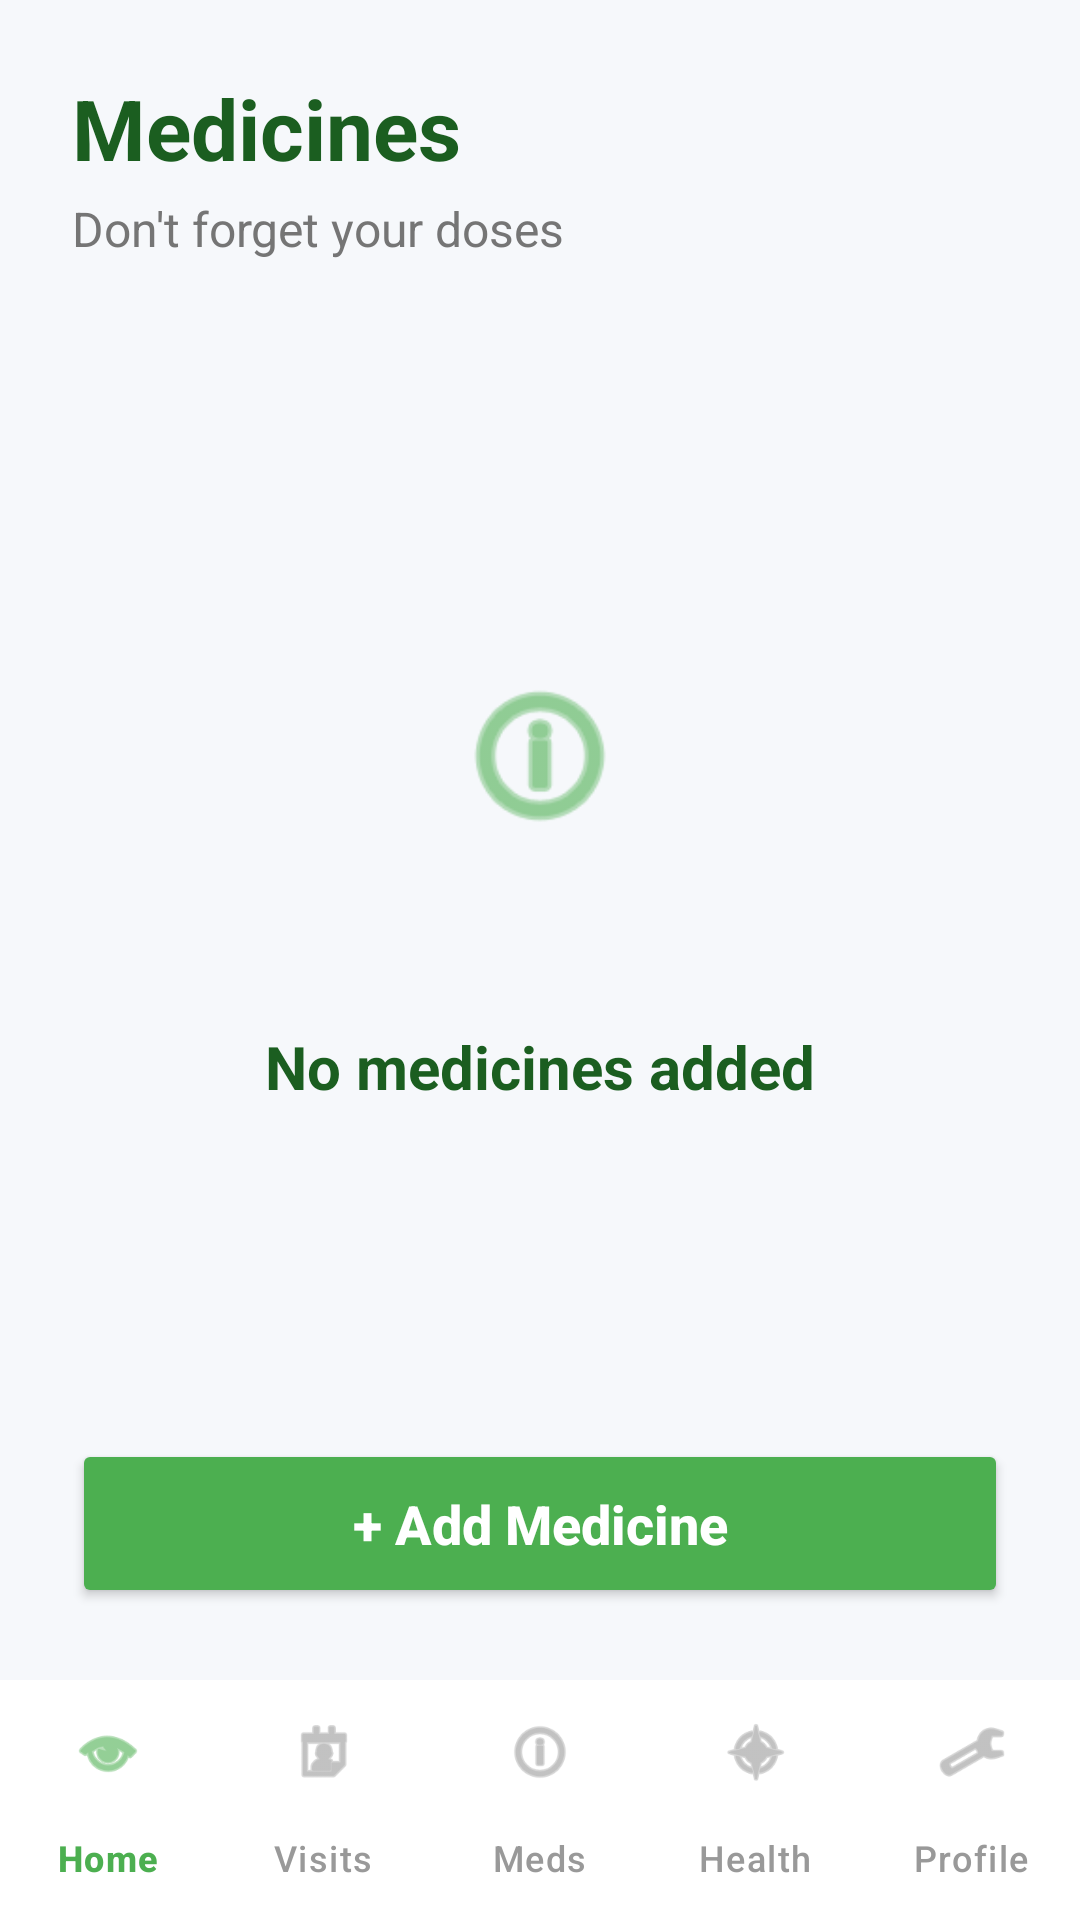

Screen size 1080*1920. Icon name, then its center in pixels as point (x, y):
info details: point (540, 756)
